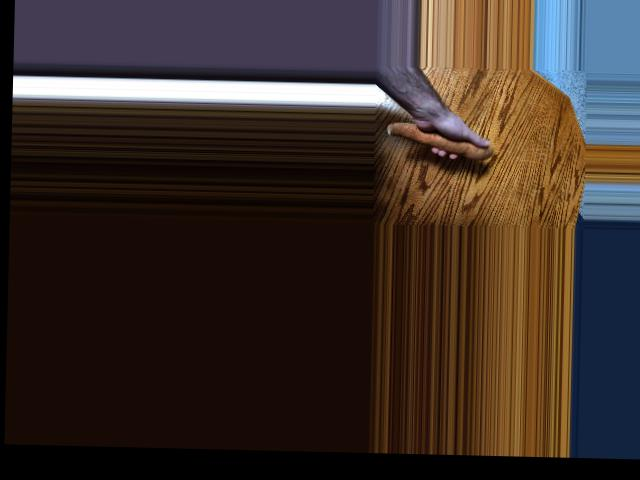sweet_potato: (385, 120, 493, 161)
